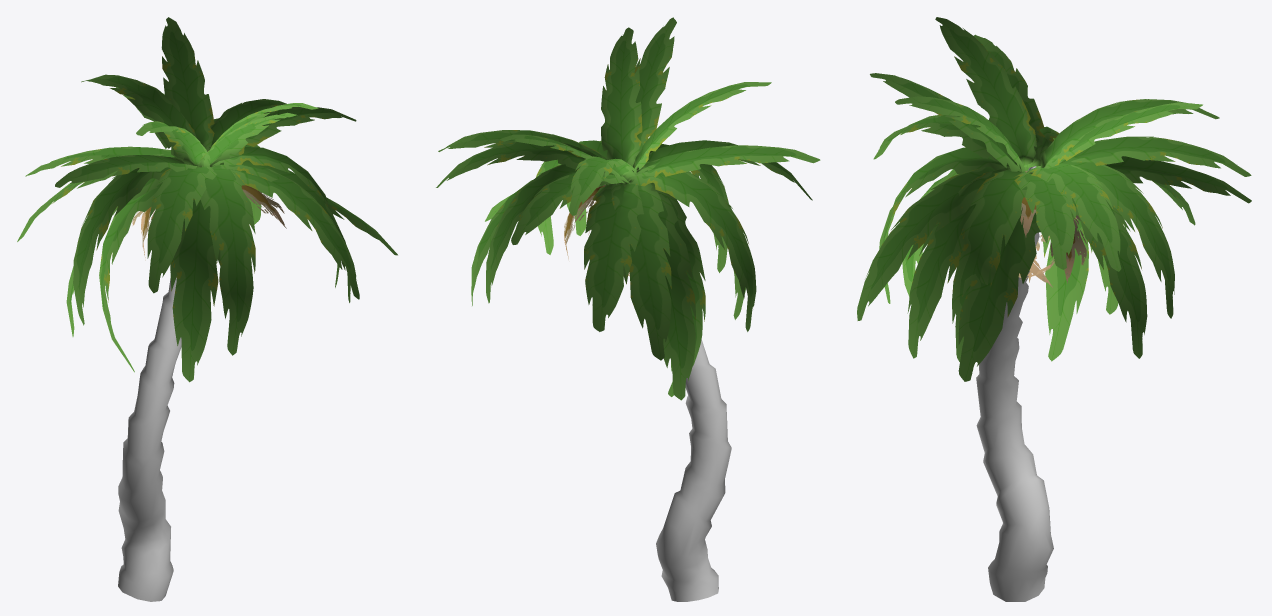
Rendered from SM_PalmTree02.fbx.
3 views of the same model, side by side, from view 1: azimuth 30°, elevation 25°; view 2: azimuth 150°, elevation 25°; view 3: azimuth 270°, elevation 25° (orthographic). The views are drawn at different scales.
Parts seen in each view (by area): view 1: PalmGen.001; view 2: PalmGen.001; view 3: PalmGen.001.
Boxes of the visible parts, <box> form: PalmGen.001: <box>17,17,397,601</box>; PalmGen.001: <box>436,17,820,601</box>; PalmGen.001: <box>857,17,1251,601</box>.
Size of the model in its own units: 5.35 by 4.8 by 7.46.
